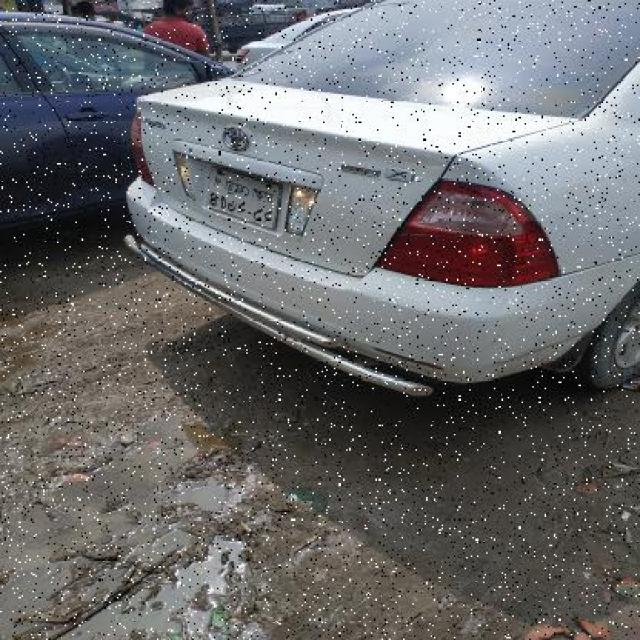numberplate: (171, 146, 320, 239), (203, 164, 282, 230)
